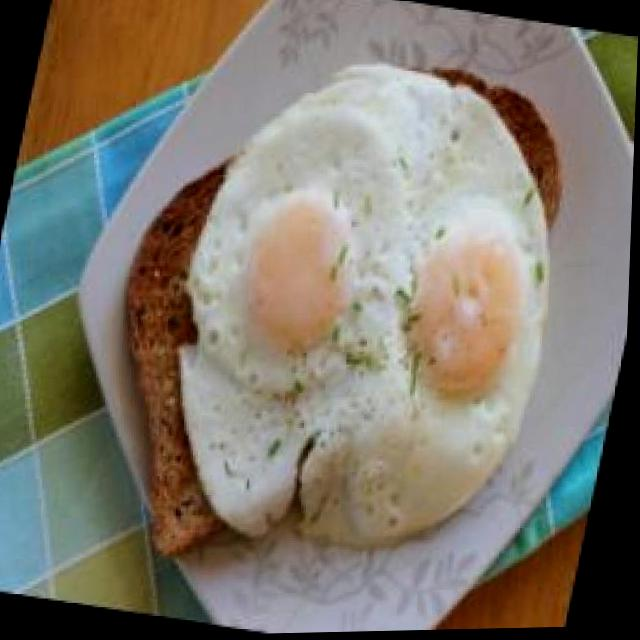fried_eggs: (138, 23, 599, 593)
